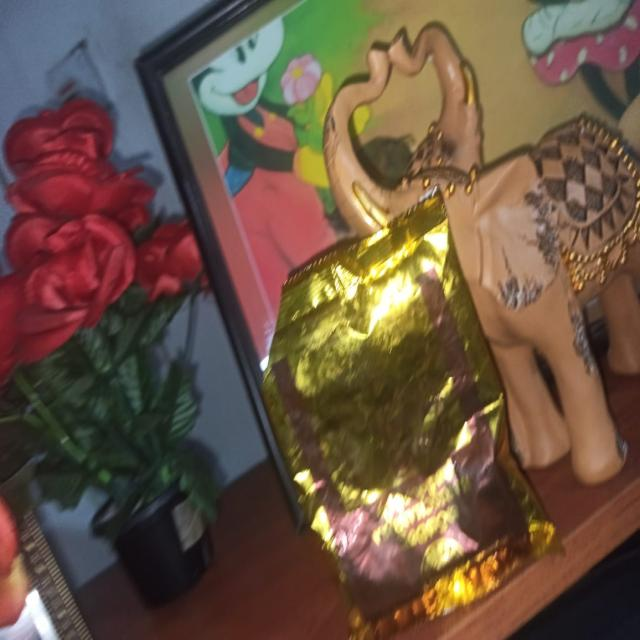Harischandra Coffee: (254, 273, 564, 640)
